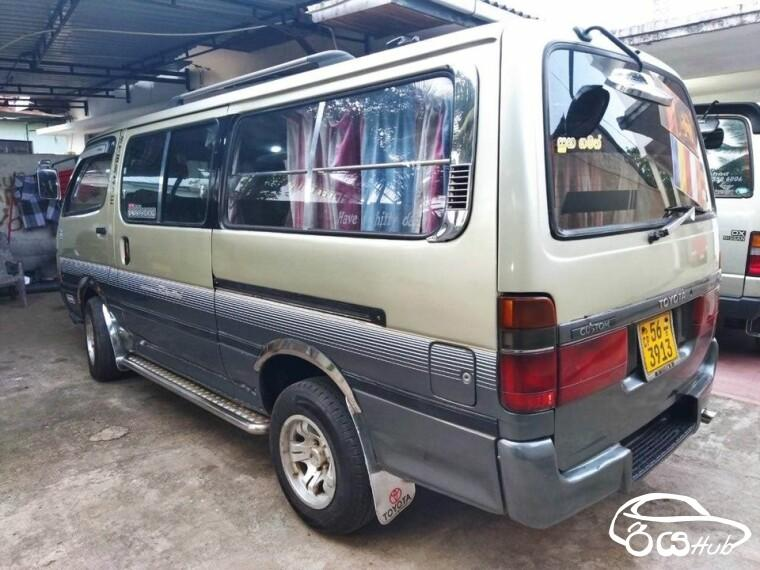van: (34, 18, 720, 537)
